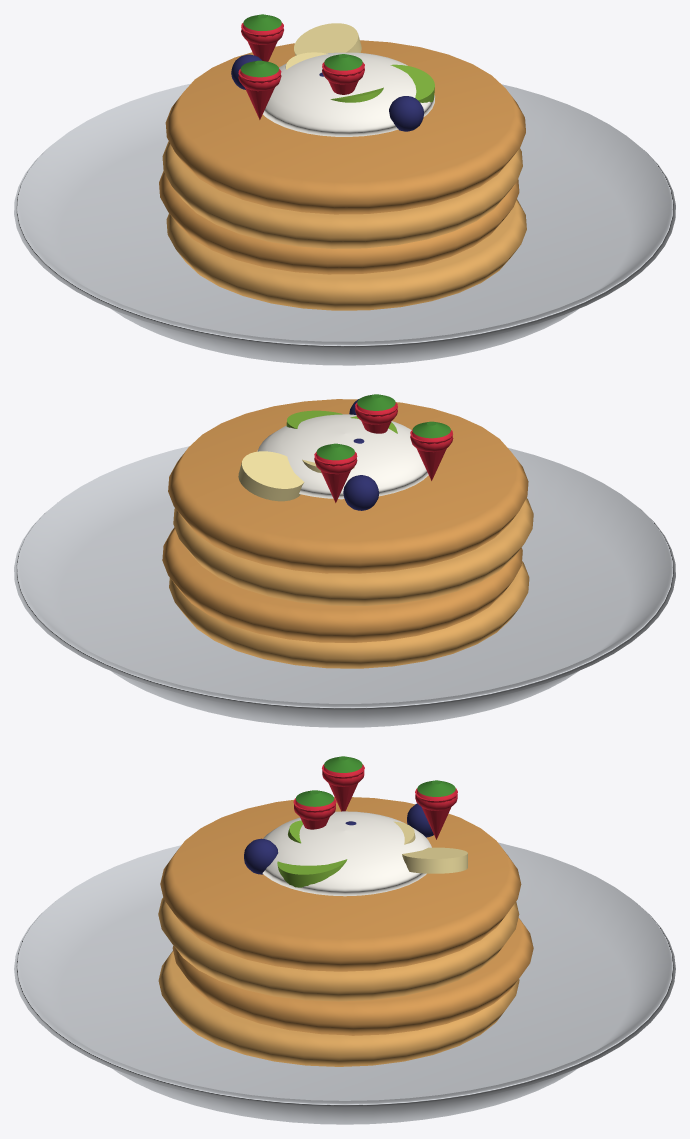
Rendered from mezzogiorno-pancake-frutta-di-stagione-yogurt.glb.
3 renders of one model, top to bottom at view 1: azimuth 30°, elevation 25°; view 2: azimuth 150°, elevation 25°; view 3: azimuth 270°, elevation 25°, orthographic.
Size of the model in its own units: 0.22 by 0.0769 by 0.22.
